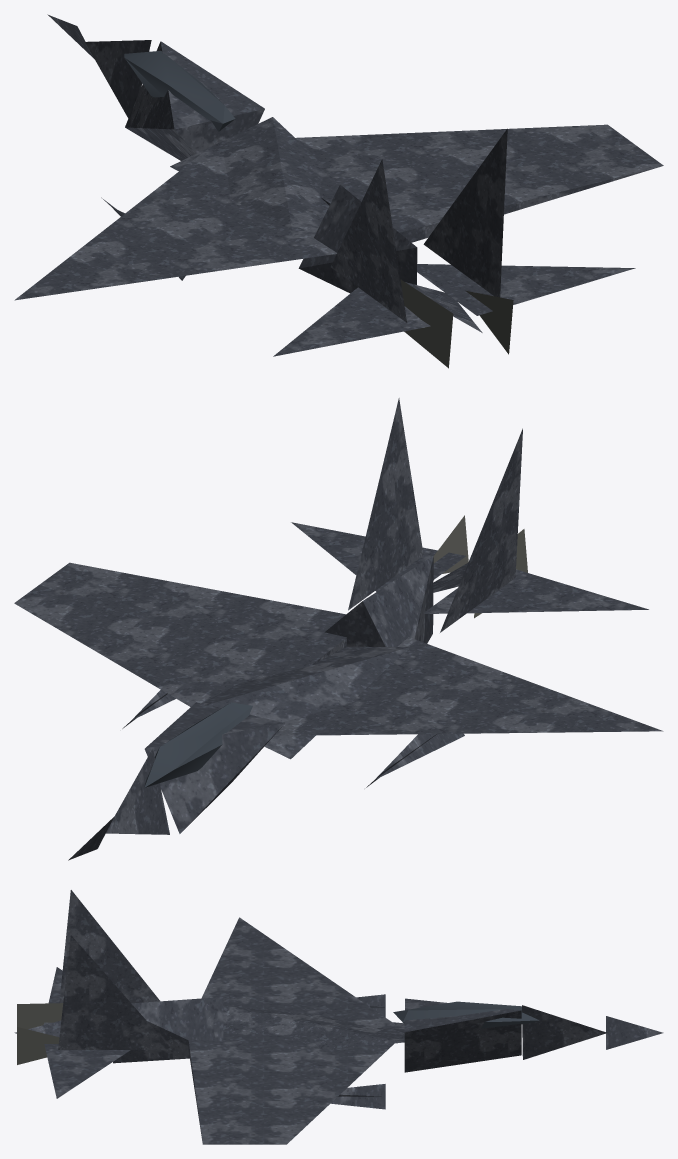
File: air_e4_us_strike_LOD2.glb
The picture shows the model from 3 angles, top to bottom: view 1: azimuth 30°, elevation 25°; view 2: azimuth 150°, elevation 25°; view 3: azimuth 270°, elevation 25°; orthographic projection. The views are drawn at different scales.
Parts seen in each view (by area): view 1: air_e4_us_strike_LOD2_body, air_e4_us_strike_LOD2_gun, air_e4_us_strike_LOD2_glass; view 2: air_e4_us_strike_LOD2_body, air_e4_us_strike_LOD2_glass, air_e4_us_strike_LOD2_gun; view 3: air_e4_us_strike_LOD2_body, air_e4_us_strike_LOD2_gun, air_e4_us_strike_LOD2_glass.
Boxes of the visible parts, left/top/right/bottom form: air_e4_us_strike_LOD2_body: left=14, top=14, right=663, bottom=356; air_e4_us_strike_LOD2_gun: left=400, top=279, right=513, bottom=368; air_e4_us_strike_LOD2_glass: left=124, top=50, right=235, bottom=131; air_e4_us_strike_LOD2_body: left=14, top=398, right=663, bottom=860; air_e4_us_strike_LOD2_glass: left=144, top=702, right=252, bottom=787; air_e4_us_strike_LOD2_gun: left=433, top=515, right=527, bottom=618; air_e4_us_strike_LOD2_body: left=14, top=890, right=663, bottom=1144; air_e4_us_strike_LOD2_gun: left=17, top=1003, right=63, bottom=1064; air_e4_us_strike_LOD2_glass: left=393, top=1001, right=539, bottom=1028.
Bounding box in the file's own units: 14.14 × 4.58 × 17.07.
3 materials, 1 textured.
